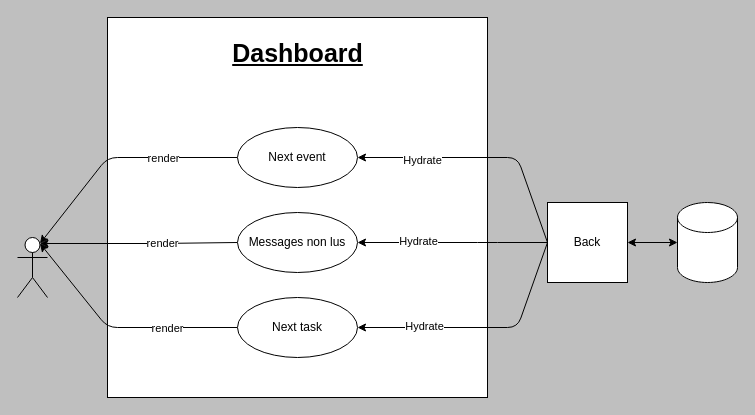
This 755x415 diagram has some shape labels left out. Here are the shapes that lost their labels. From the top down, the box of each, then its label:
(676, 202, 738, 282): DB
(16, 236, 48, 298): User
